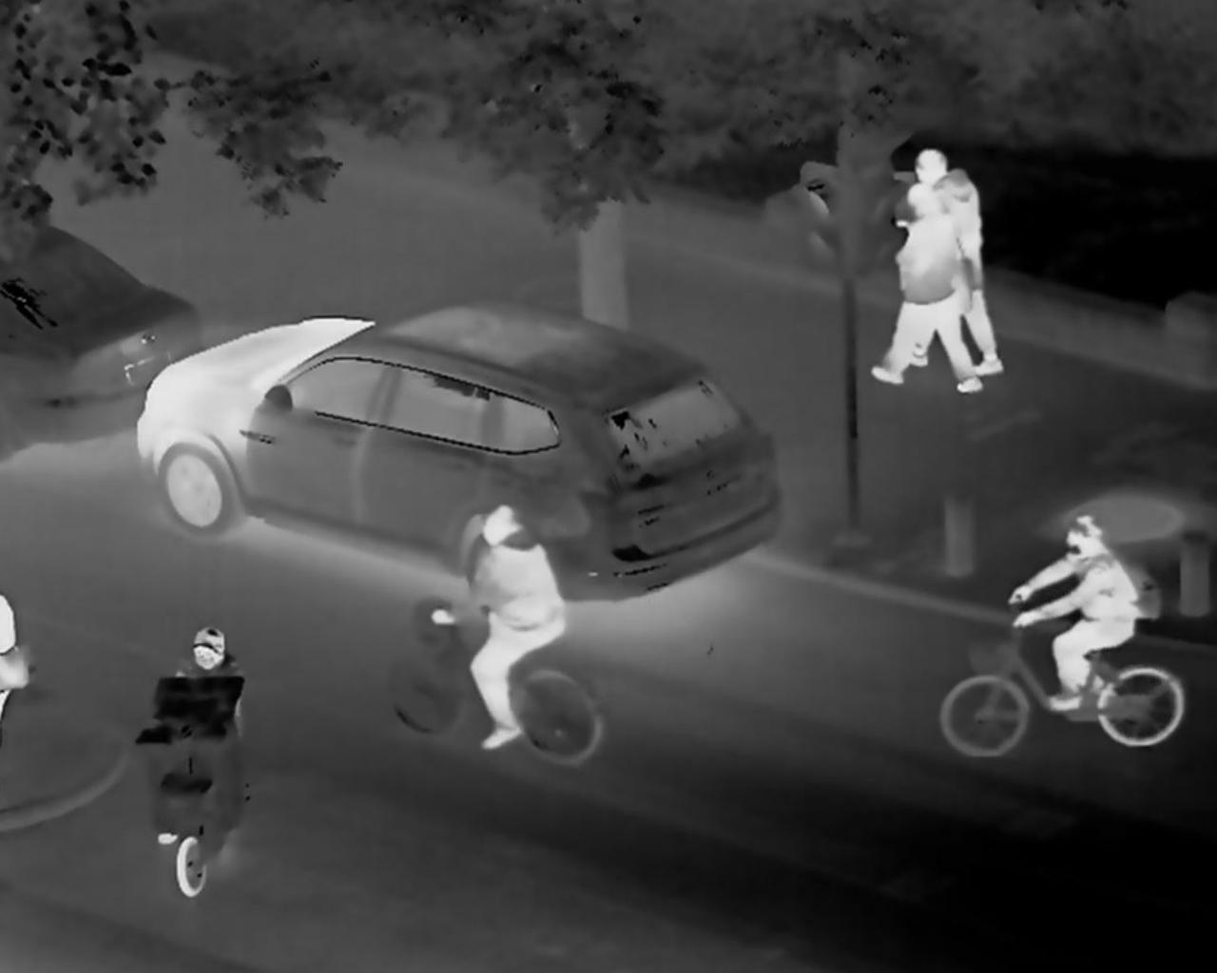person: (433, 500, 550, 758), (1040, 523, 1186, 698), (942, 151, 995, 393), (882, 158, 931, 371), (183, 628, 254, 697)
